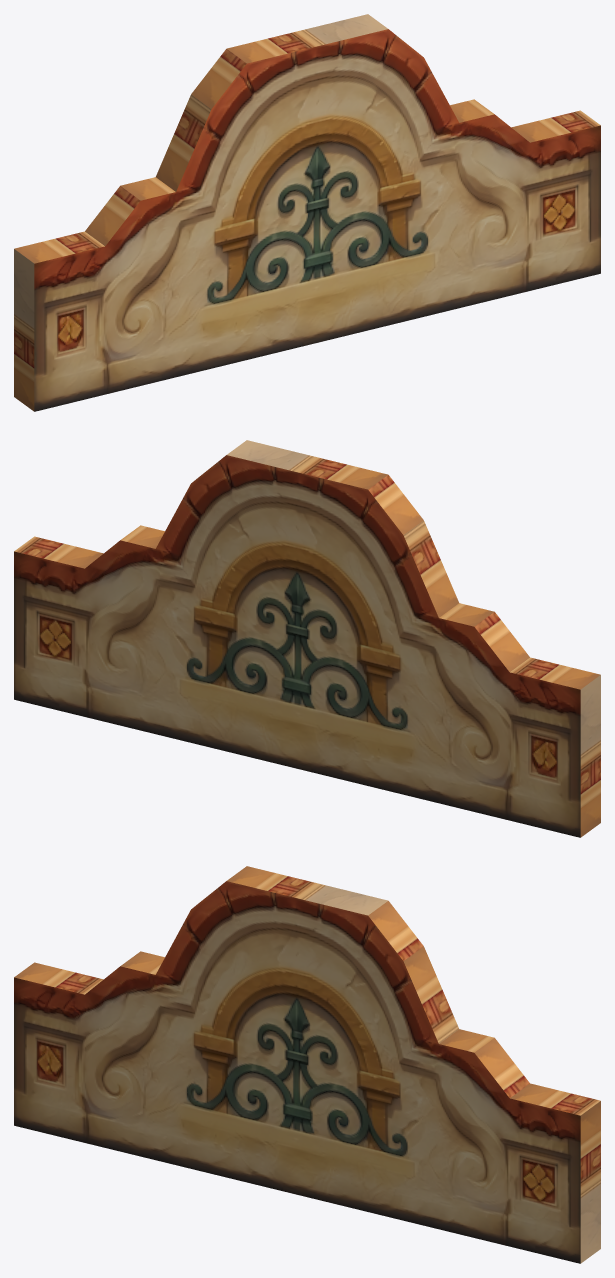
The model's file is SPN_CrestA.fbx.
3 views of the same model, one above another, from view 1: azimuth 30°, elevation 25°; view 2: azimuth 150°, elevation 25°; view 3: azimuth 330°, elevation 25° (orthographic).
Visible parts, largest first — view 1: SPN_CrestA; view 2: SPN_CrestA; view 3: SPN_CrestA.
Boxes of the visible parts, x1,y1,x2,y2 form: SPN_CrestA: (14, 14, 600, 411); SPN_CrestA: (14, 440, 600, 837); SPN_CrestA: (14, 866, 600, 1263).
Bounding box in the file's own units: 4 × 0.25 × 2.
Materials: 1 (1 with a texture image).
